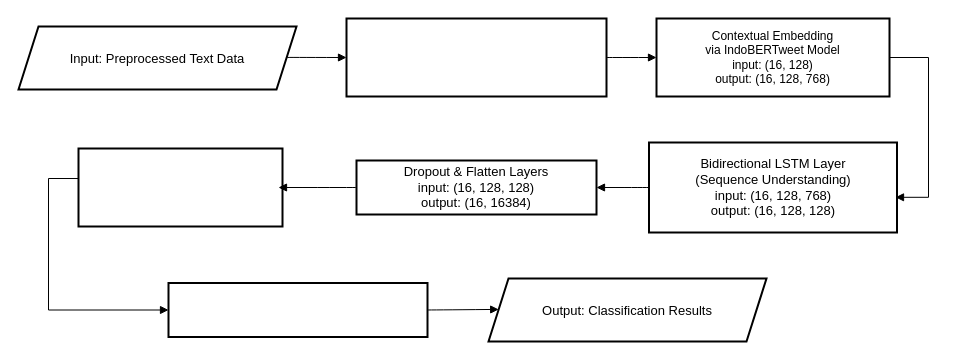
Some shapes in this 954 by 359 pixel diagram are drawn without their labels. Here are the shapes that lost their labels. From the top down, the centre of each, then its label:
the point at 476,57: Tokenization using IndoBERTweet Tokenizer
the point at 180,187: Dense Layer (Sigmoid Activation) input: (16, 16384) output: (16, 1)
the point at 297,310: Model Training & Evaluation
